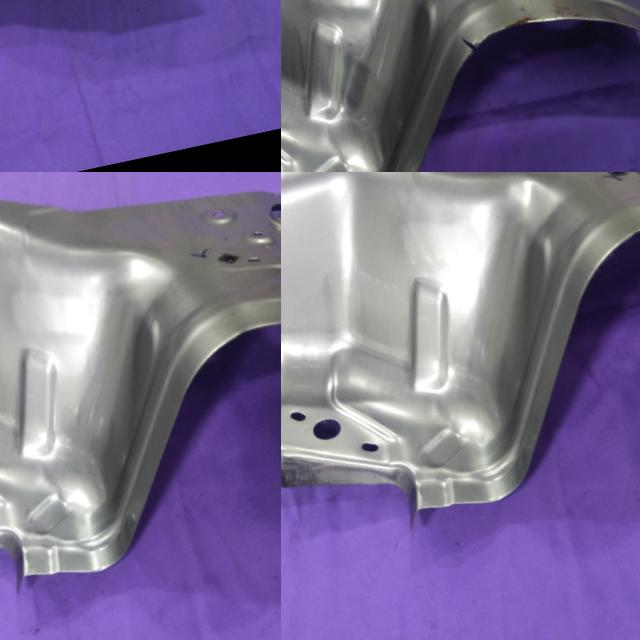Defect: (446, 6, 498, 85)
Healthy: (281, 172, 640, 560), (0, 172, 281, 626)
rust: (494, 0, 584, 52)
